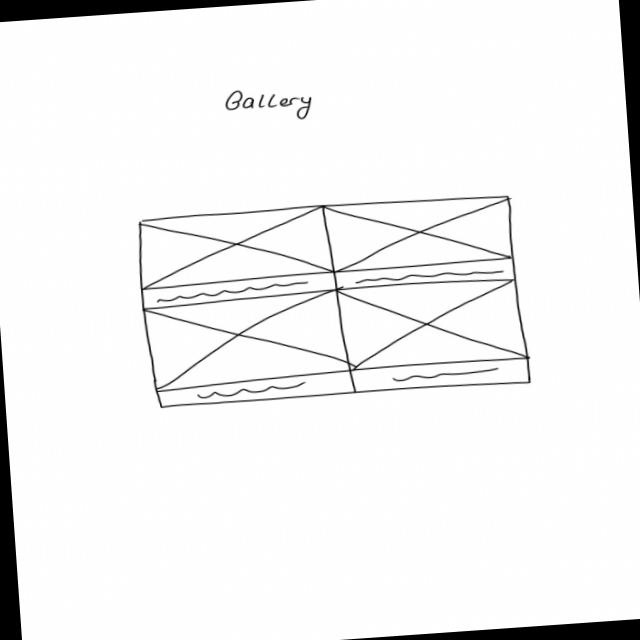container: (136, 269, 338, 311), (154, 368, 358, 408), (348, 354, 534, 397), (332, 255, 518, 291)
image: (138, 288, 350, 390), (336, 274, 528, 372), (134, 201, 336, 287), (318, 192, 518, 274)
label: (220, 83, 316, 126)
text: (152, 280, 312, 304), (350, 266, 505, 284), (195, 379, 306, 401), (390, 364, 506, 383)
